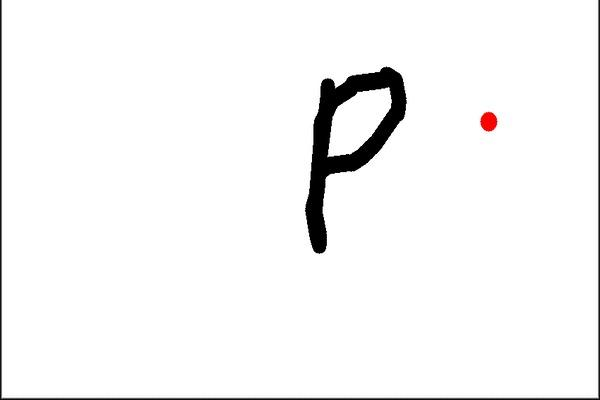P: (292, 53, 417, 257)
